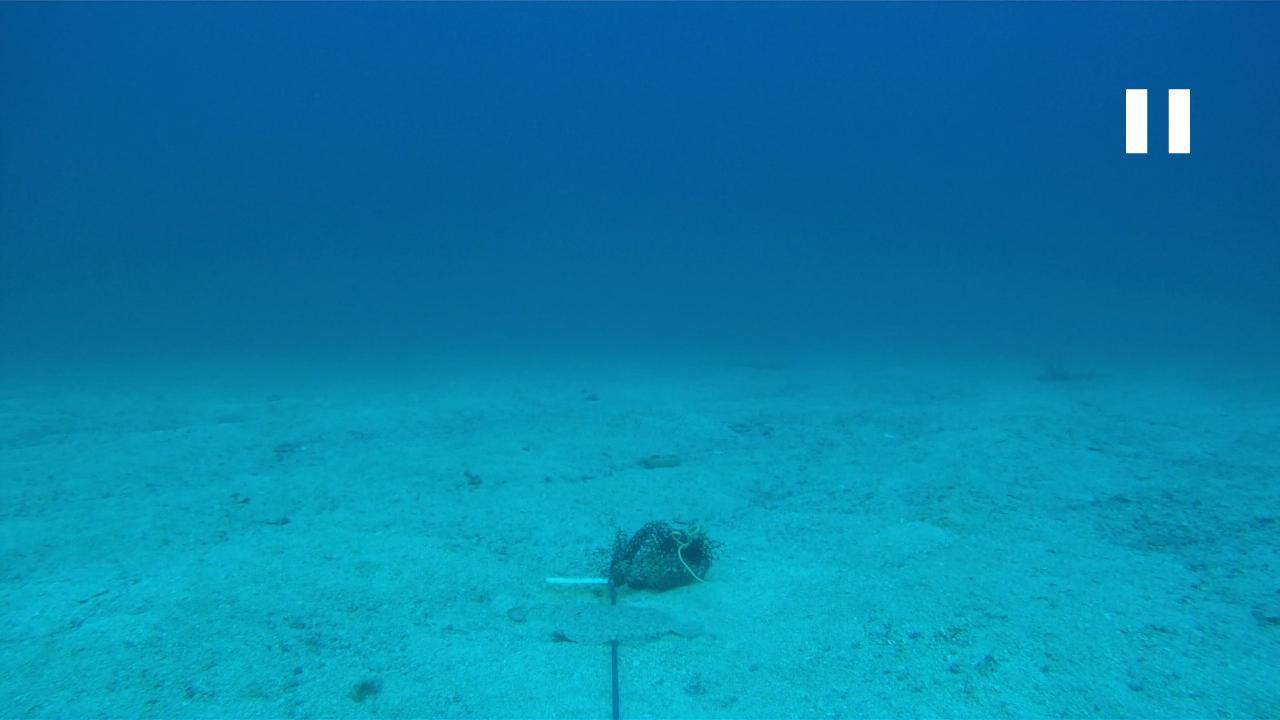bothus: (543, 599, 704, 645)
